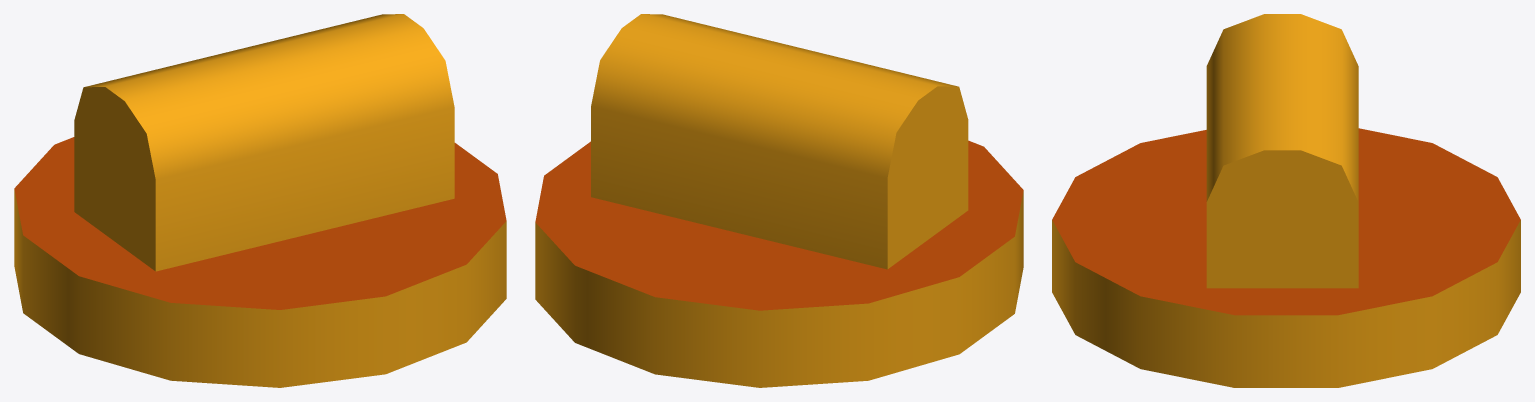
The model's file is LoaderPart1.fbx.
The picture shows the model from 3 angles, left to right: view 1: azimuth 30°, elevation 25°; view 2: azimuth 150°, elevation 25°; view 3: azimuth 270°, elevation 25°; orthographic projection. The views are drawn at different scales.
Parts seen in each view (by area): view 1: LoaderPart1; view 2: LoaderPart1; view 3: LoaderPart1.
Boxes of the visible parts, x1,y1,x2,y2 form: LoaderPart1: (14, 14, 506, 387); LoaderPart1: (535, 14, 1023, 387); LoaderPart1: (1052, 14, 1520, 387).
Bounding box in the file's own units: 15.69 × 8.09 × 16.27.
